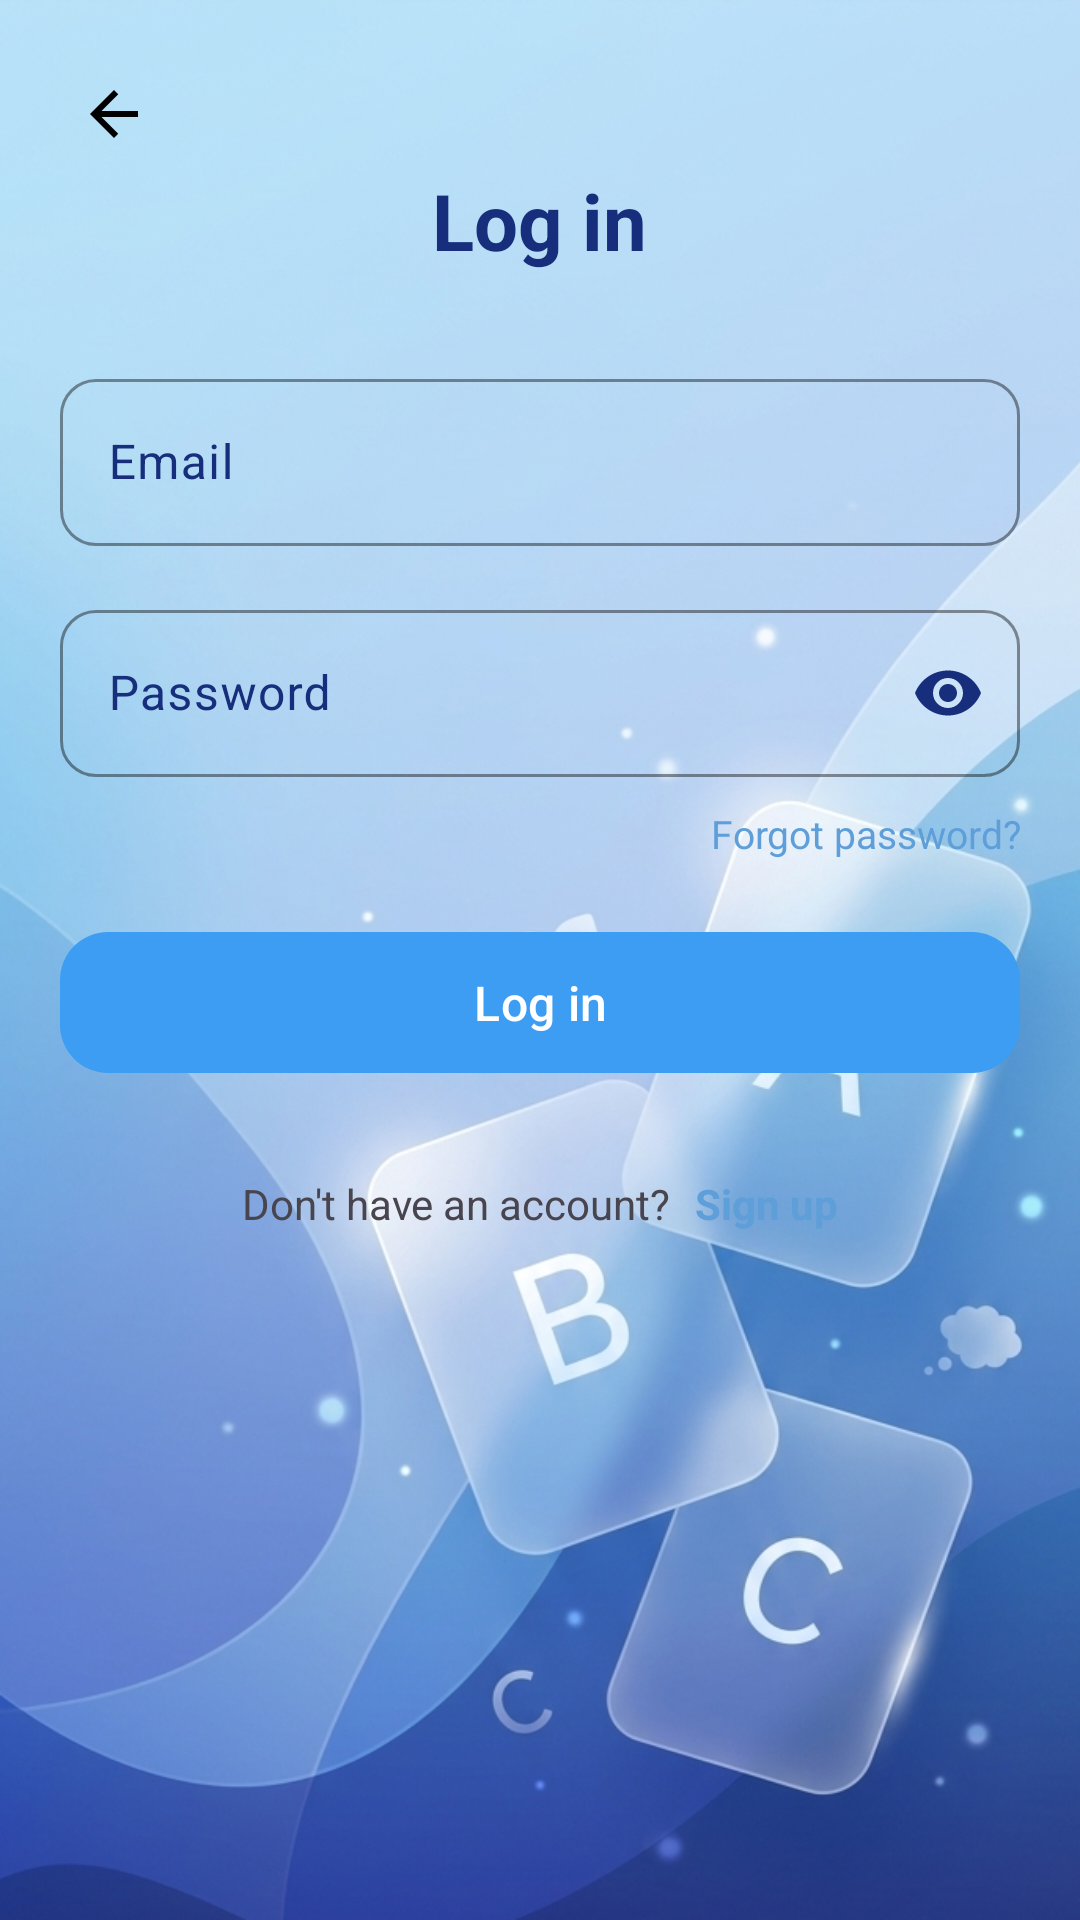

Icon bounding boxes for this 1080 × 1920 phone screenshot, format (x1, y1, x2, y2):
back: (90, 90, 138, 138)
